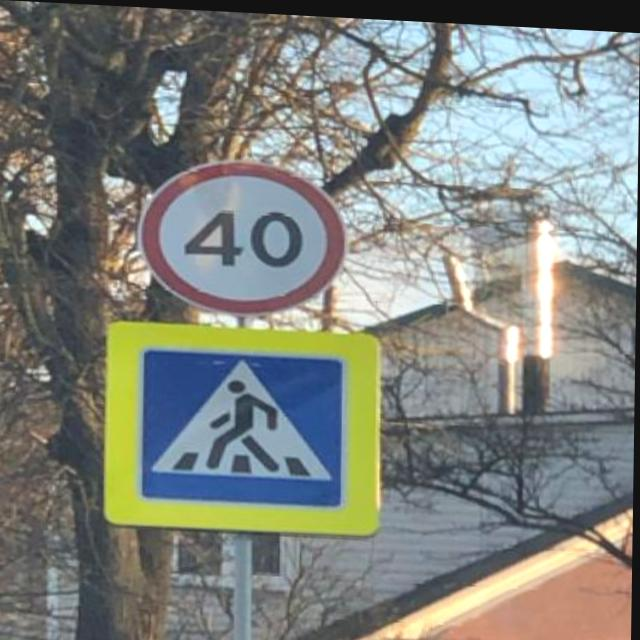limit40: (130, 150, 355, 322)
